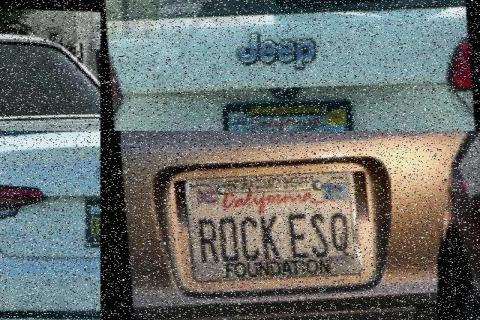LicensePlate: (181, 165, 368, 284), (217, 93, 366, 131), (82, 193, 100, 245)
